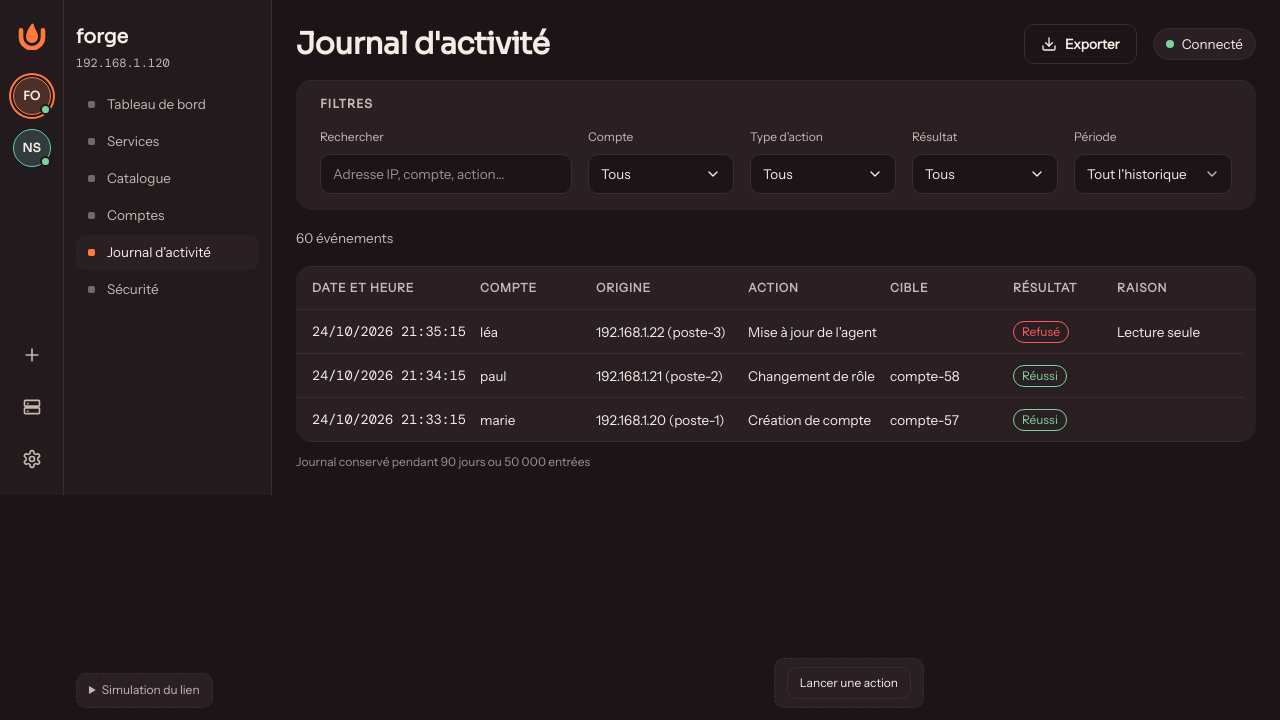
Scenario: page Journal d'activité › échec de lecture pendant la frappe : filtres et liste précédents gardés, une seule notification, le champ garde la saisie
The image size is (1280, 720).
Type "marie" into the search field labelled "Rechercher" at (446, 174), box [321, 155, 571, 194]
Wait 1000 ms
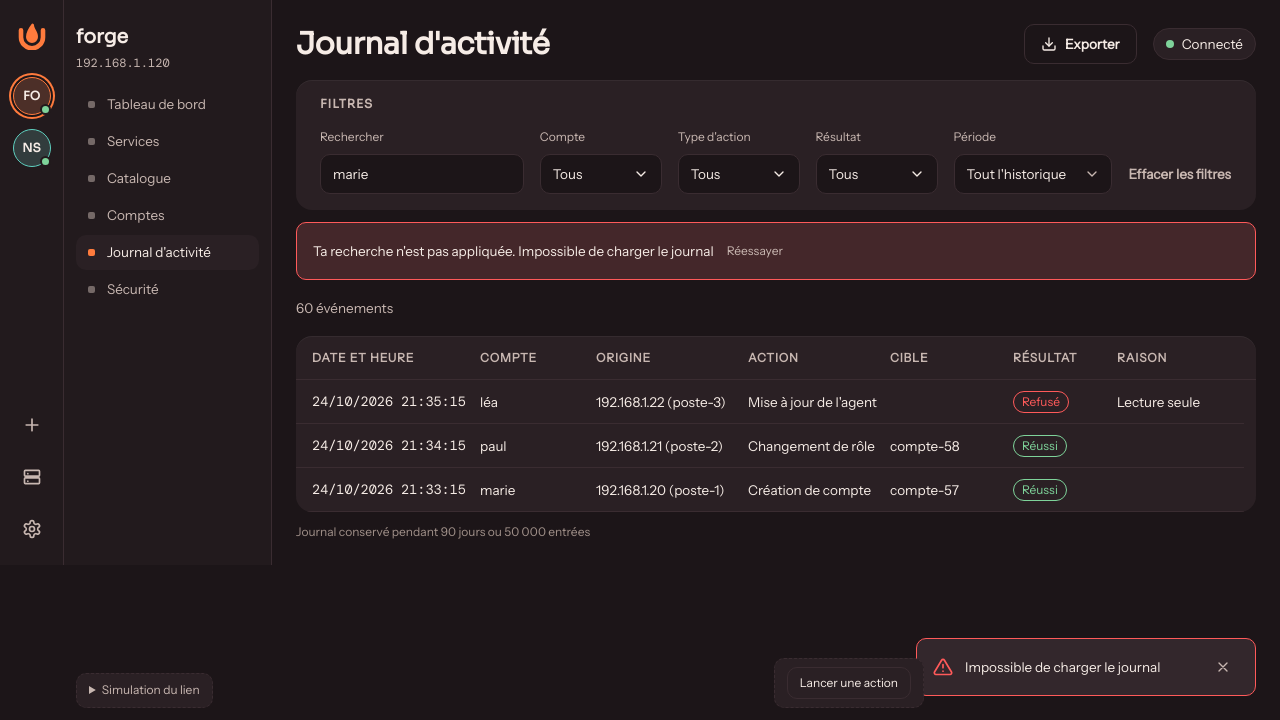
Check: the text "Impossible de charger le journal" is shown, box [313, 243, 714, 259]
